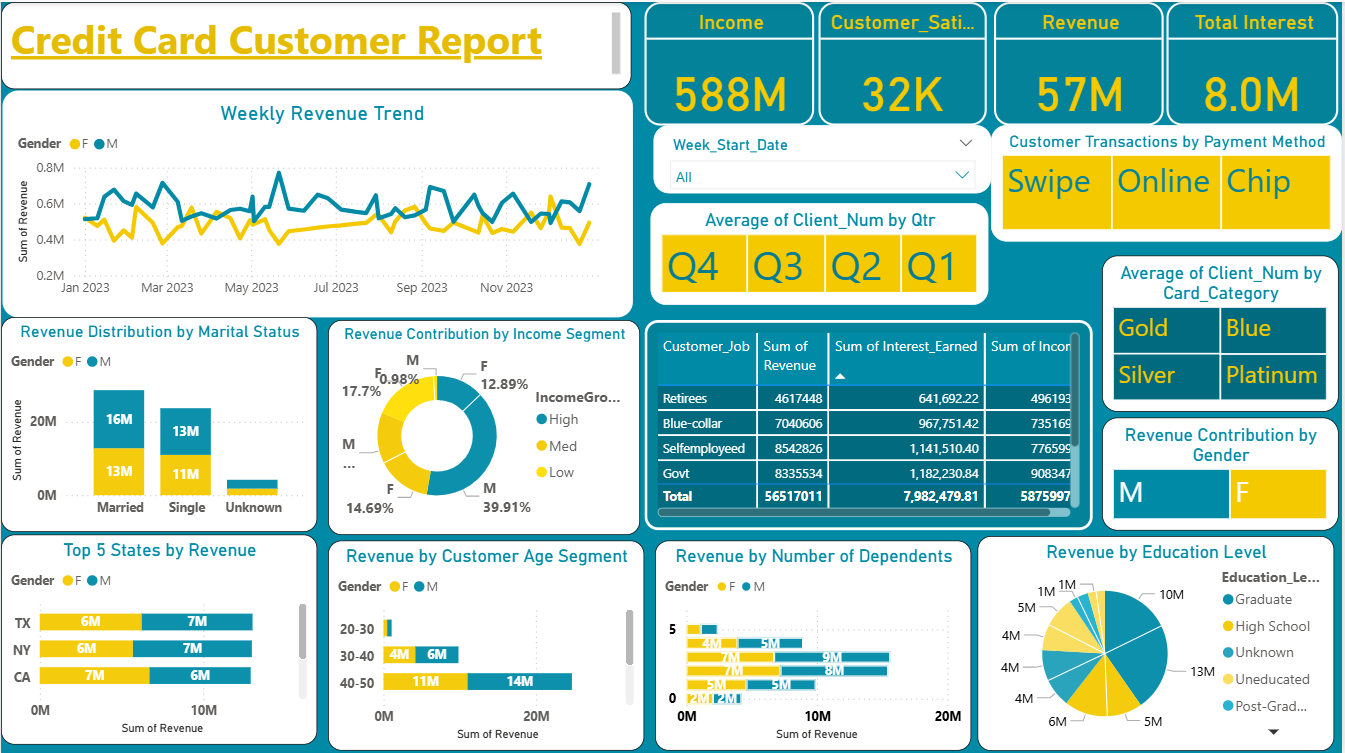

The page's visual inventory and layout, read from the dashboard file:
{"tool":"powerbi","page":{"name":"CC_CUSTOMER","canvas":[1280,720],"ordinal":2},"visuals":[{"type":"textbox","box":[0,0,601.7,83.1],"z":0},{"type":"tableEx","fields":{"Values":["cust_detail.Customer_Job","Sum(cc_detail.Revenue)","Sum(cc_detail.Interest_Earned)","Sum(cust_detail.Income)"]},"box":[614,303.8,427.9,200.4],"z":1000},{"type":"cardVisual","title":"Total Interest","fields":{"Data":["Sum(cc_detail.Interest_Earned)"]},"box":[1113.4,0,163.8,117.7],"z":2000},{"type":"cardVisual","title":"Revenue","fields":{"Data":["Sum(cc_detail.Revenue)"]},"box":[948,0,162.2,117.7],"z":3000},{"type":"cardVisual","title":"Income","fields":{"Data":["Sum(cust_detail.Income)"]},"box":[614,0,162.2,117.7],"z":4000},{"type":"cardVisual","title":"Customer_Satisfaction","fields":{"Data":["Sum(customer.Cust_Satisfaction_Score)"]},"box":[781,0,160.7,117.7],"z":5000},{"type":"slicer","fields":{"Values":["cc_detail.Week_Start_Date"]},"box":[623.5,117.7,322.9,65.2],"z":6000},{"type":"treemap","title":"Average of Client_Num by Qtr","fields":{"Group":["cc_detail.Qtr"],"Values":["Avg(cc_detail.Client_Num)"]},"box":[620.3,192.5,322.9,97],"z":7000},{"type":"treemap","fields":{"Group":["cc_detail.Card_Category"],"Values":["Avg(cc_detail.Client_Num)"]},"box":[1051.4,241.8,225.9,149.5],"z":9000},{"type":"donutChart","title":"Revenue Contribution by Income Segment","fields":{"Category":["cust_detail.IncomeGroup"],"Series":["cust_detail.Gender"],"Y":["Sum(cc_detail.Revenue)"]},"box":[311.9,303.4,298.3,205.1],"z":10000},{"type":"lineChart","title":"Weekly Revenue Trend","fields":{"Category":["cc_detail.Week_Start_Date.Variation.Date Hierarchy.Year","cc_detail.Week_Start_Date.Variation.Date Hierarchy.Month","cc_detail.Week_Start_Date.Variation.Date Hierarchy.Day"],"Series":["cust_detail.Gender"],"Y":["Sum(cc_detail.Revenue)"]},"box":[1.7,84.7,601.7,216.9],"z":11000},{"type":"barChart","title":"Revenue by Customer Age Segment","fields":{"Category":["cust_detail.AgeGroup"],"Series":["cust_detail.Gender"],"Y":["Sum(cc_detail.Revenue)"]},"box":[311.8,513.8,302.2,200.4],"z":12000},{"type":"pieChart","title":"Revenue by Education Level","fields":{"Category":["cust_detail.Education_Level"],"Series":["cust_detail.Gender"],"Y":["Sum(cc_detail.Revenue)"]},"box":[932.1,510.6,340.4,205.2],"z":13000},{"type":"barChart","title":"Top 5 States by Revenue","fields":{"Category":["cust_detail.State_cd"],"Series":["cust_detail.Gender"],"Y":["Sum(cc_detail.Revenue)"]},"box":[0,509,302.2,200.4],"z":14000},{"type":"barChart","title":"Revenue by Number of Dependents","fields":{"Category":["cust_detail.Dependent_Count"],"Series":["cust_detail.Gender"],"Y":["Sum(cc_detail.Revenue)"]},"box":[625.1,513.8,302.2,200.4],"z":15000},{"type":"columnChart","title":"Revenue Distribution by Marital Status","fields":{"Category":["cust_detail.Marital_Status"],"Series":["cust_detail.Gender"],"Y":["Sum(cc_detail.Revenue)"]},"box":[0,300.6,302.2,205.2],"z":16000},{"type":"treemap","title":"Customer Transactions by Payment Method","fields":{"Group":["cc_detail.Use_Chip"],"Values":["Avg(cc_detail.Client_Num)"]},"box":[944.8,117.7,335.6,111.3],"z":17000},{"type":"treemap","title":"Revenue Contribution by Gender","fields":{"Group":["cust_detail.Gender"],"Values":["Sum(cc_detail.Revenue)"]},"box":[1051.4,396.1,225.9,108.2],"z":18000}]}

Visuals, with their boxes in screenshot pixels (x1, y1, x2, y2), scaled from the page's 1280x720 canvas onto the 1345x753 screenshot:
textbox: [x1=0, y1=0, x2=632, y2=87]
tableEx - cust_detail.Customer_Job x Sum(cc_detail.Revenue): [x1=645, y1=318, x2=1095, y2=527]
"Total Interest" cardVisual: [x1=1170, y1=0, x2=1342, y2=123]
"Revenue" cardVisual: [x1=996, y1=0, x2=1167, y2=123]
"Income" cardVisual: [x1=645, y1=0, x2=816, y2=123]
"Customer_Satisfaction" cardVisual: [x1=821, y1=0, x2=990, y2=123]
slicer - cc_detail.Week_Start_Date: [x1=655, y1=123, x2=994, y2=191]
"Average of Client_Num by Qtr" treemap: [x1=652, y1=201, x2=991, y2=303]
treemap - cc_detail.Card_Category x Avg(cc_detail.Client_Num): [x1=1105, y1=253, x2=1342, y2=409]
"Revenue Contribution by Income Segment" donutChart: [x1=328, y1=317, x2=641, y2=532]
"Weekly Revenue Trend" lineChart: [x1=2, y1=89, x2=634, y2=315]
"Revenue by Customer Age Segment" barChart: [x1=328, y1=537, x2=645, y2=747]
"Revenue by Education Level" pieChart: [x1=979, y1=534, x2=1337, y2=749]
"Top 5 States by Revenue" barChart: [x1=0, y1=532, x2=318, y2=742]
"Revenue by Number of Dependents" barChart: [x1=657, y1=537, x2=974, y2=747]
"Revenue Distribution by Marital Status" columnChart: [x1=0, y1=314, x2=318, y2=529]
"Customer Transactions by Payment Method" treemap: [x1=993, y1=123, x2=1344, y2=239]
"Revenue Contribution by Gender" treemap: [x1=1105, y1=414, x2=1342, y2=527]
